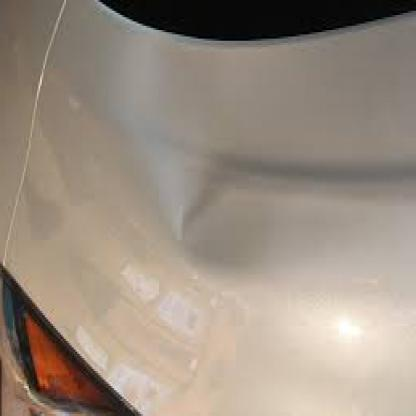dent: (158, 145, 258, 256)
